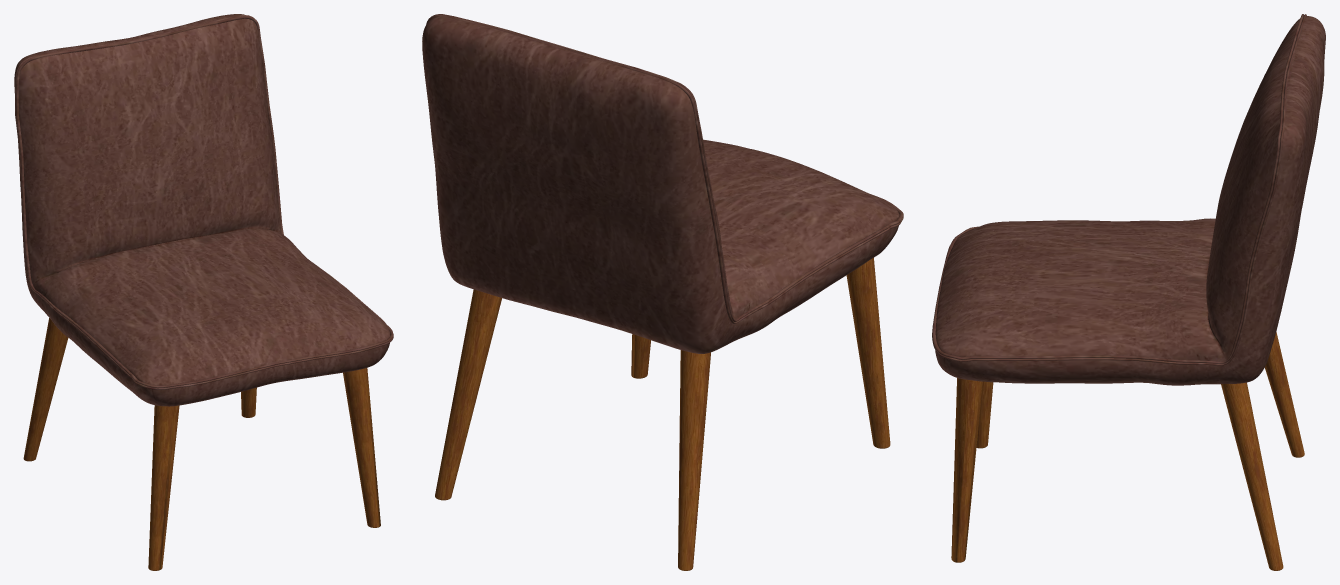
File: B075YNQ7TC.glb
The picture shows the model from 3 angles, left to right: view 1: azimuth 30°, elevation 25°; view 2: azimuth 150°, elevation 25°; view 3: azimuth 270°, elevation 25°; orthographic projection. The views are drawn at different scales.
Visible parts, largest first — view 1: RootNode; view 2: RootNode; view 3: RootNode.
Part boxes in pixels (left/top/right/bottom): RootNode: left=14, top=14, right=393, bottom=570; RootNode: left=422, top=14, right=903, bottom=570; RootNode: left=932, top=14, right=1325, bottom=570.
Bounding box in the file's own units: 0.5425 × 0.8032 × 0.6449.
1 material, 1 textured.
